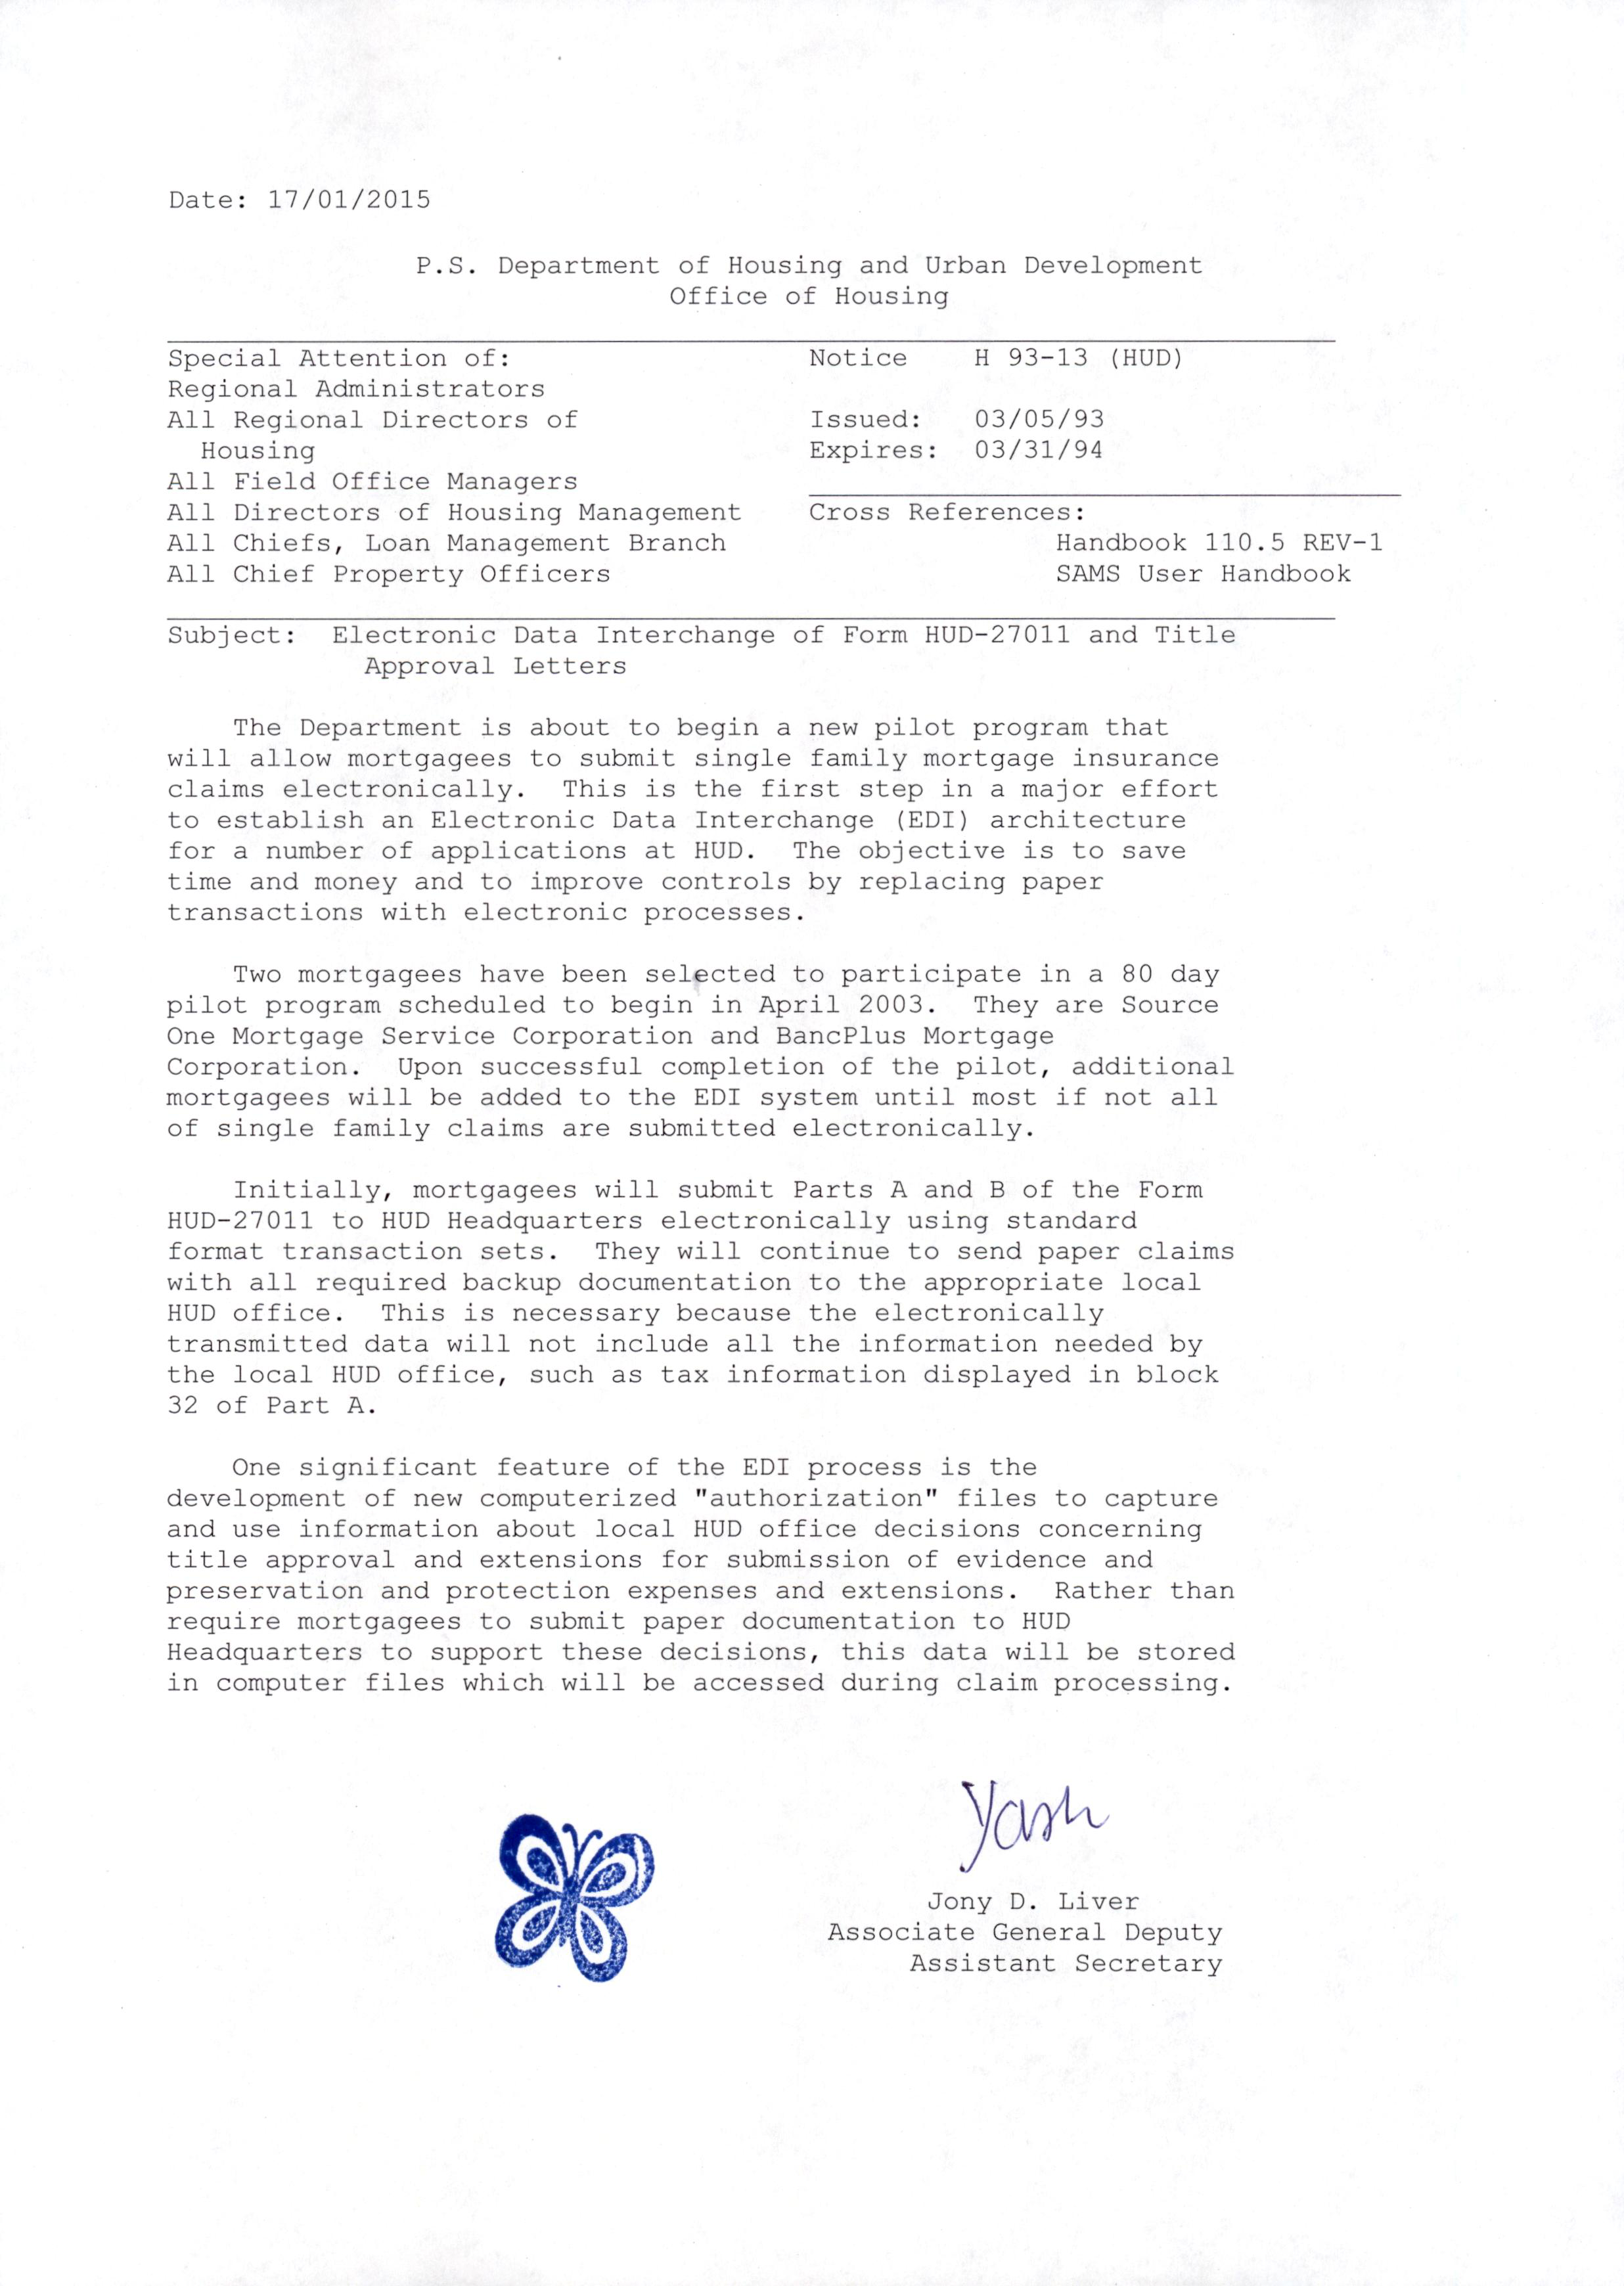Signature: (953, 1771, 1116, 1880)
